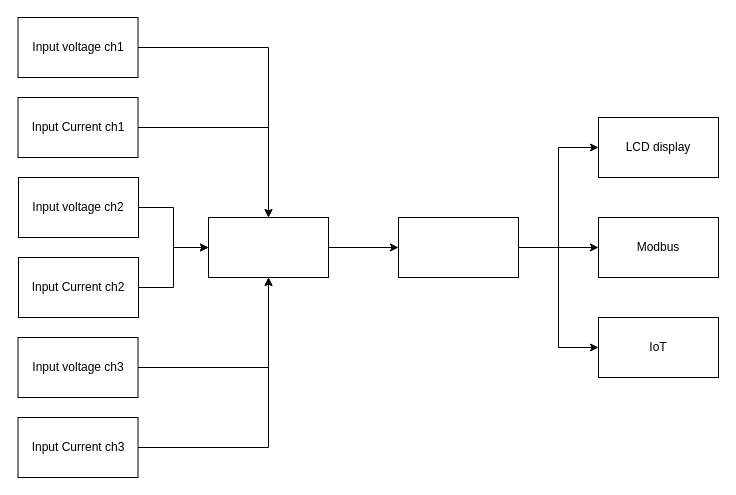
Some shapes in this 736 by 495 pixel diagram are drawn without their labels. Here are the shapes that lost their labels. From the top down, the box of each, then its label:
(208, 216, 328, 278): ESP32 ADC
(398, 216, 518, 278): energy calculation
